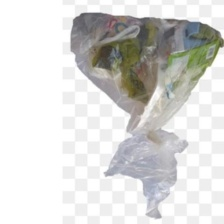plastic_bag: (63, 7, 223, 221)
